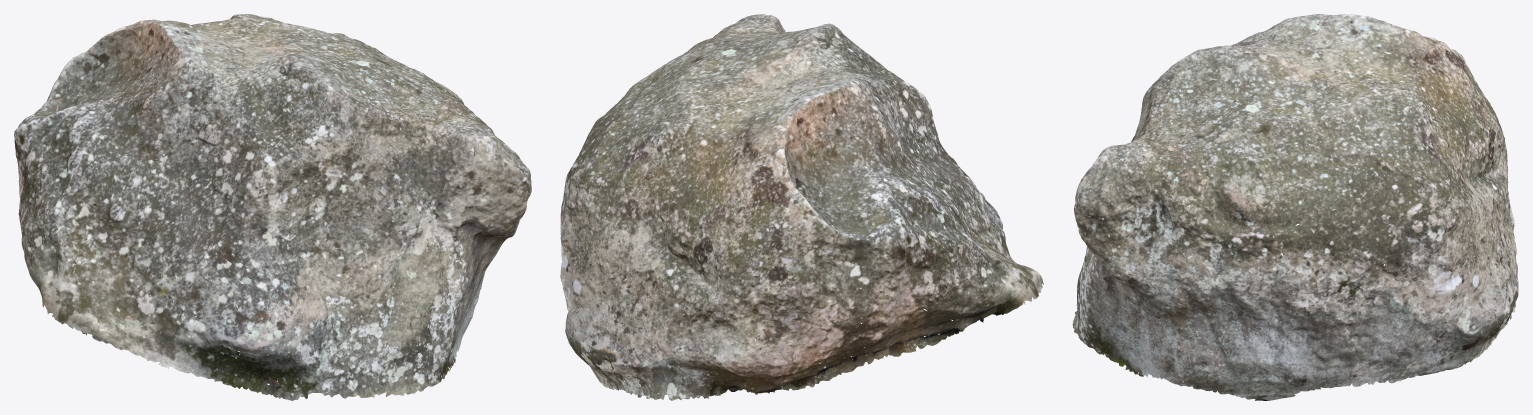
3 renders of one model, left to right at view 1: azimuth 30°, elevation 25°; view 2: azimuth 150°, elevation 25°; view 3: azimuth 270°, elevation 25°, orthographic. The views are drawn at different scales.
Visible parts, largest first — view 1: model_tex_u1_v1_0.001; view 2: model_tex_u1_v1_0.001; view 3: model_tex_u1_v1_0.001.
Boxes of the visible parts, <box> form: model_tex_u1_v1_0.001: <box>14,14,531,400</box>; model_tex_u1_v1_0.001: <box>560,14,1043,400</box>; model_tex_u1_v1_0.001: <box>1072,14,1518,400</box>.
Size of the model in its own units: 1.54 by 1.07 by 1.47.
1 material, 1 textured.
